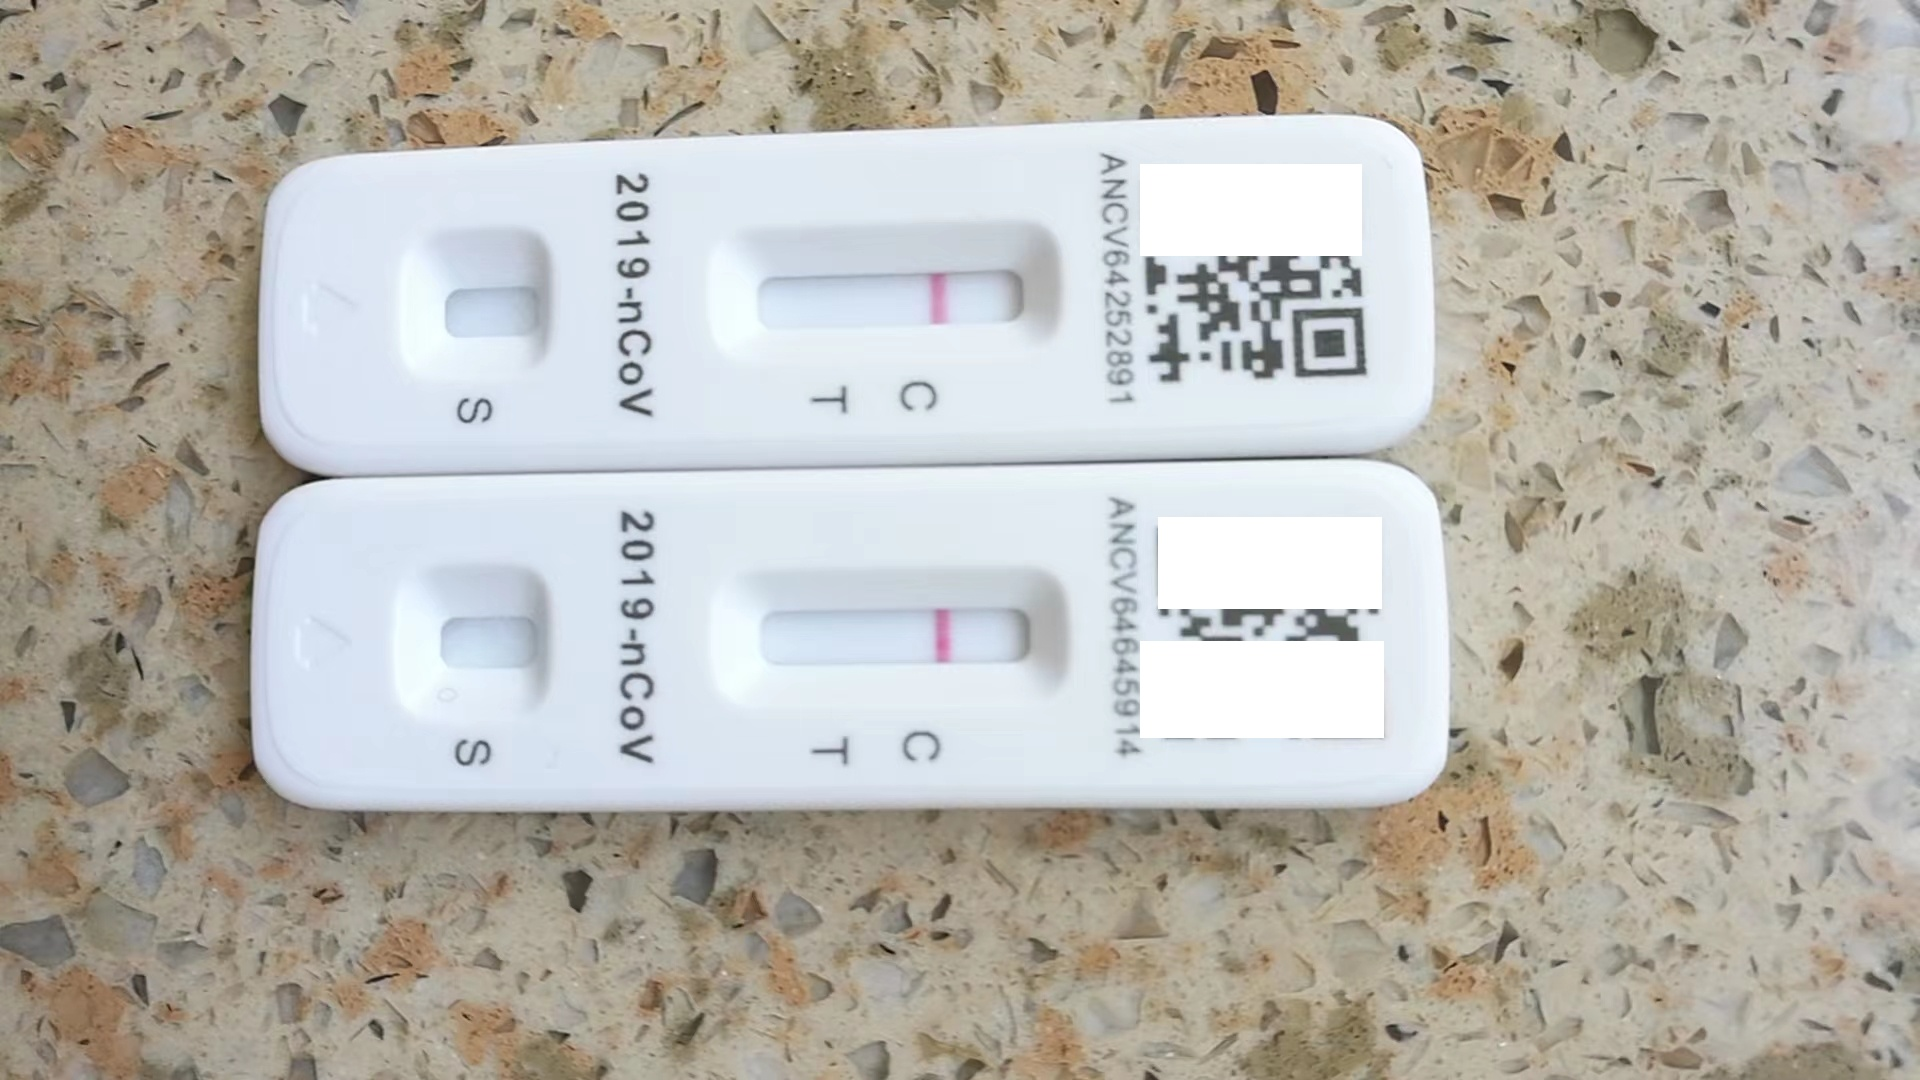negative: (716, 568, 1079, 705), (713, 224, 1068, 351)
